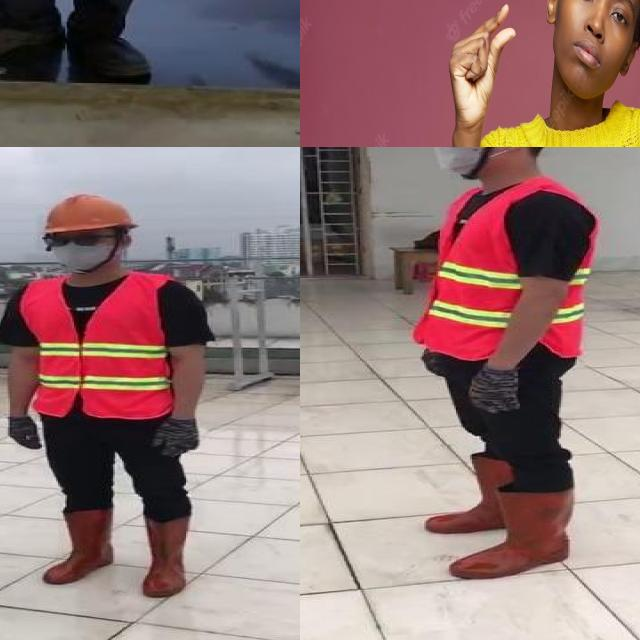No_Ear-Protection: (541, 0, 567, 33)
No_Glasses: (563, 0, 640, 33)
boots: (422, 447, 550, 538), (451, 486, 573, 580), (41, 507, 116, 585), (140, 513, 197, 597)
face_mask: (40, 227, 112, 270), (425, 147, 498, 172)
glasses: (40, 230, 110, 250)
hand_glove: (467, 367, 527, 412), (150, 418, 202, 459), (8, 417, 48, 449)
head_helmet: (33, 190, 140, 234)
person: (388, 147, 605, 590), (0, 186, 213, 603), (0, 0, 237, 85)
shoes: (60, 0, 159, 90), (0, 0, 66, 63)
vest: (419, 184, 605, 358), (19, 271, 173, 418)
